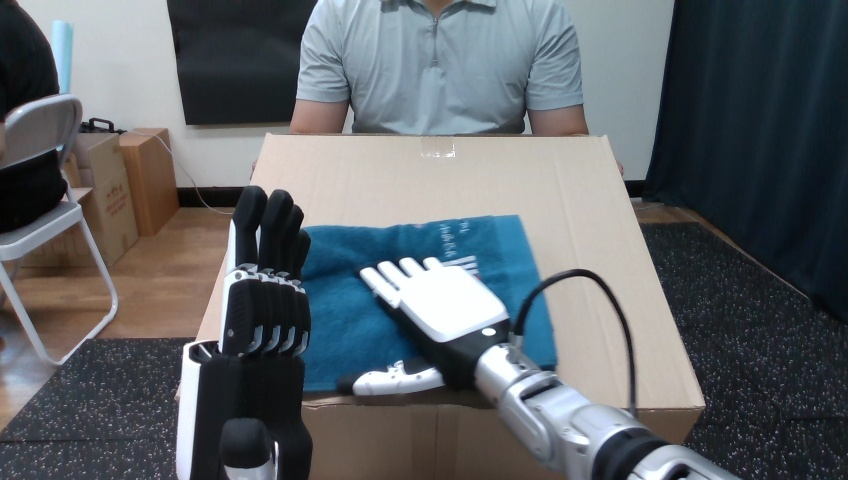left robot hand: (353, 257, 736, 479), (176, 186, 311, 479), (520, 275, 632, 413)
